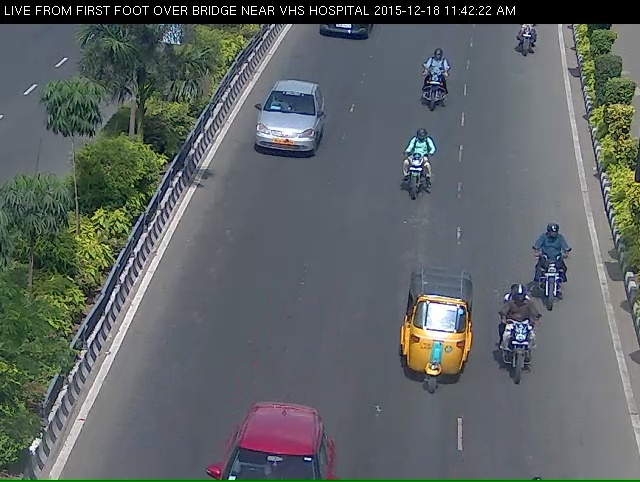Auto: (393, 281, 478, 419)
Car: (238, 85, 327, 176), (215, 429, 328, 478)
Person: (528, 241, 586, 330), (501, 308, 546, 422), (395, 142, 437, 218), (417, 58, 455, 124), (505, 22, 546, 69)
